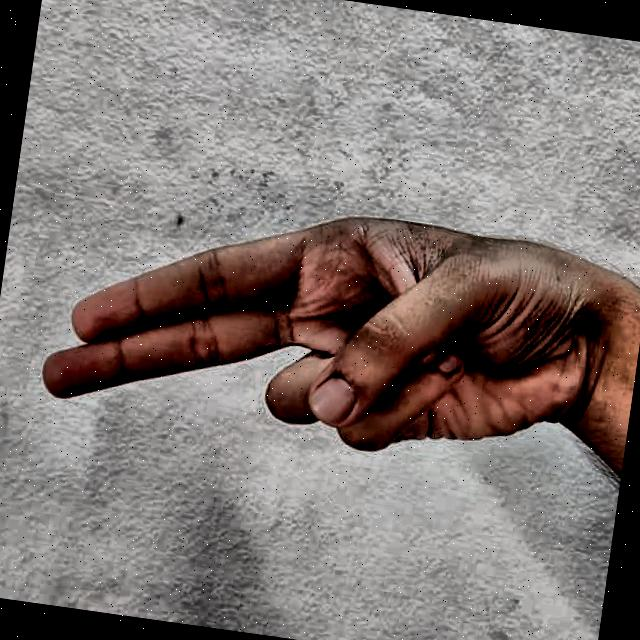Ha: (0, 135, 618, 630)
